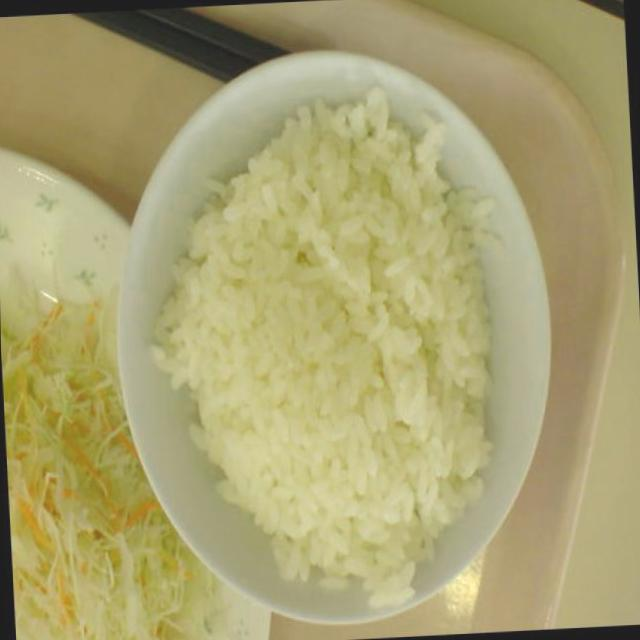Rice: (180, 119, 506, 588)
